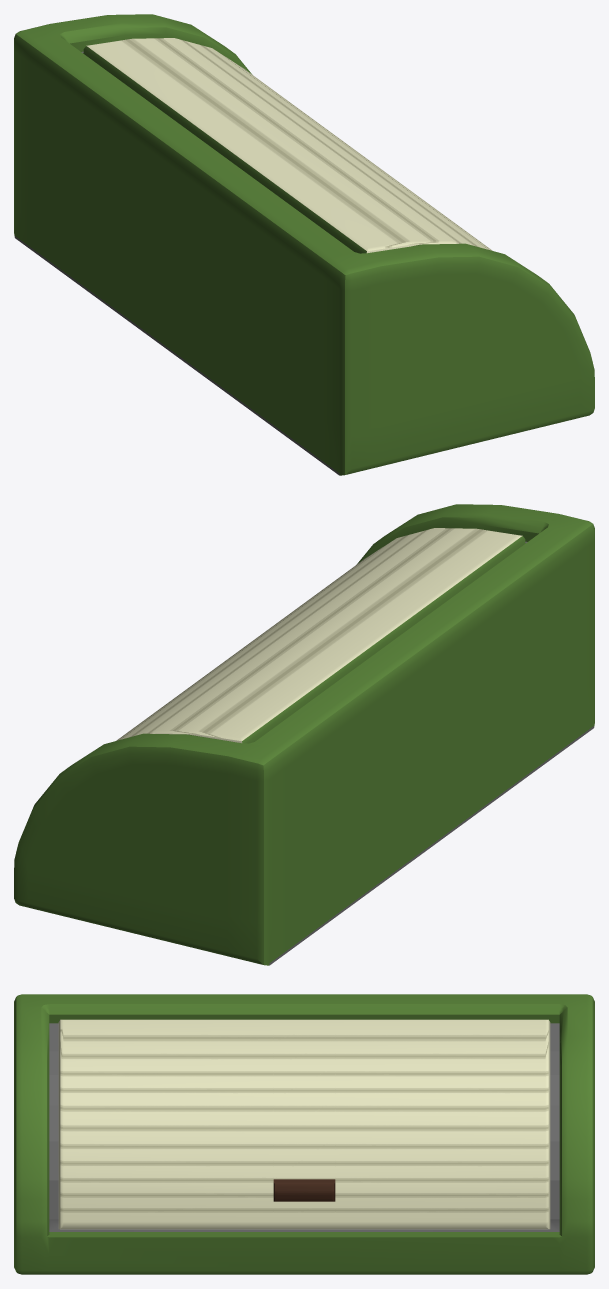
File: Breadbox_70s_v1.fbx
The picture shows the model from 3 angles, top to bottom: view 1: azimuth 30°, elevation 25°; view 2: azimuth 150°, elevation 25°; view 3: azimuth 270°, elevation 25°; orthographic projection. The views are drawn at different scales.
Parts seen in each view (by area): view 1: M_Breadbox_70s; view 2: M_Breadbox_70s; view 3: M_Breadbox_70s.
Part boxes in pixels (bbox=[...]): M_Breadbox_70s: bbox=[14, 14, 594, 475]; M_Breadbox_70s: bbox=[14, 504, 594, 965]; M_Breadbox_70s: bbox=[14, 994, 594, 1274].
Size of the model in its own units: 2.68 by 2.06 by 6.08.
